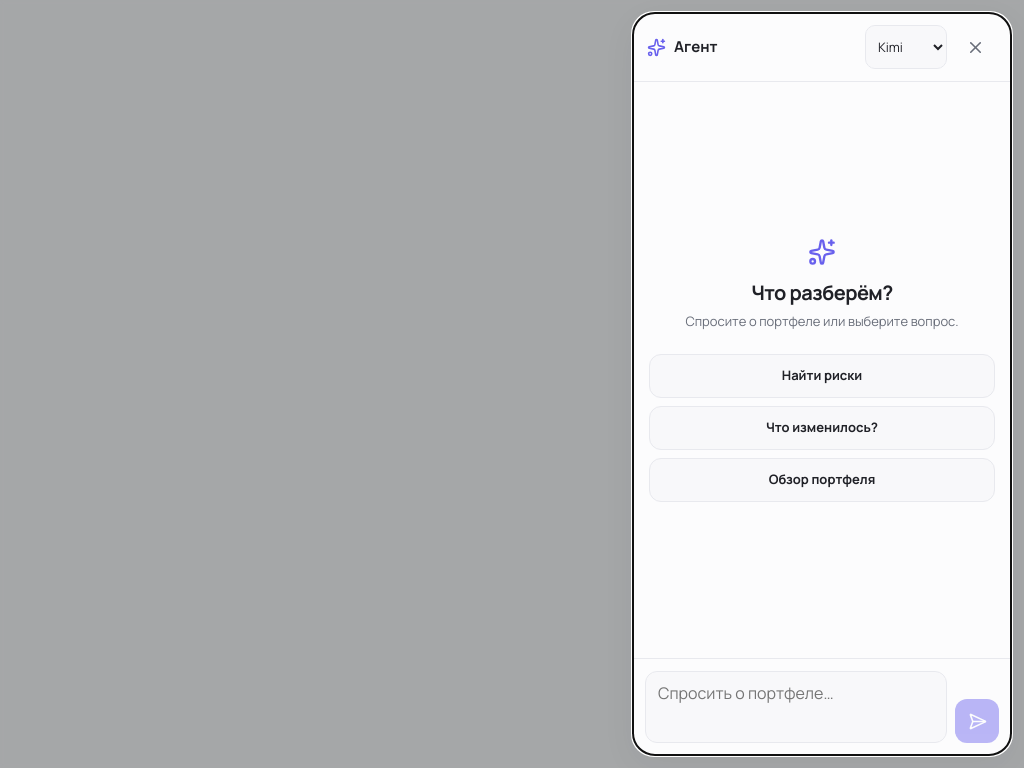
Test: prevents duplicate sends while a response is pending
Type "Только один вопрос" into the text box named "Сообщение агенту" at (796, 707), box top-left (645, 671), bottom-right (947, 743)
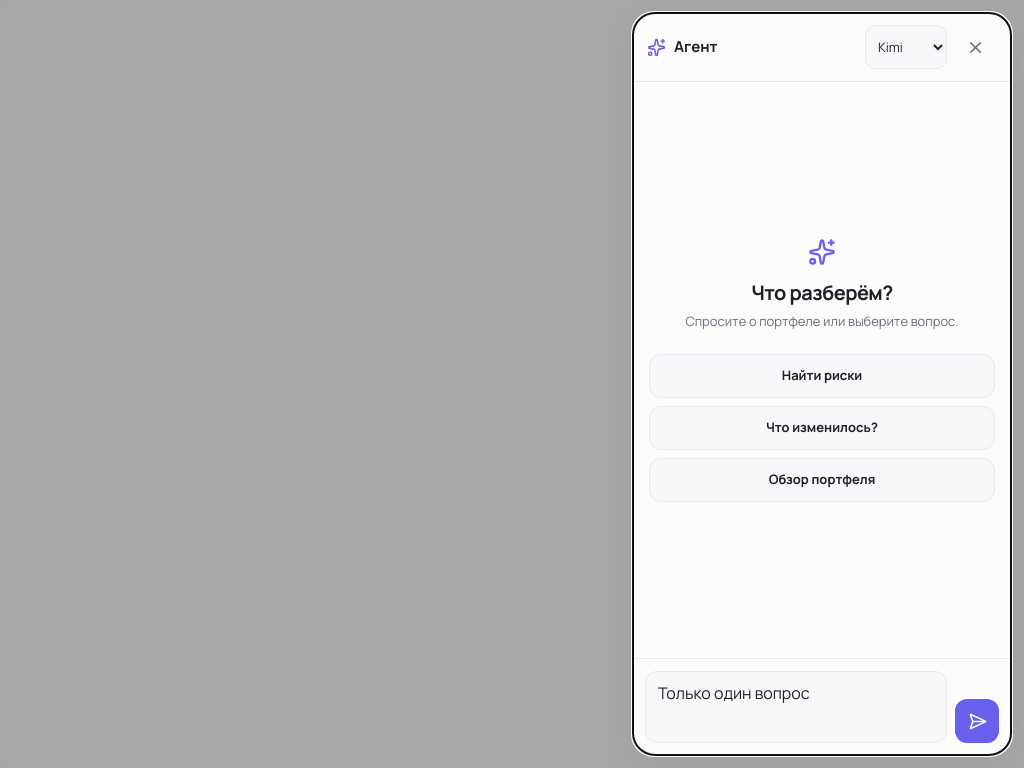
Press Enter in the text box named "Сообщение агенту", box top-left (645, 671), bottom-right (947, 743)
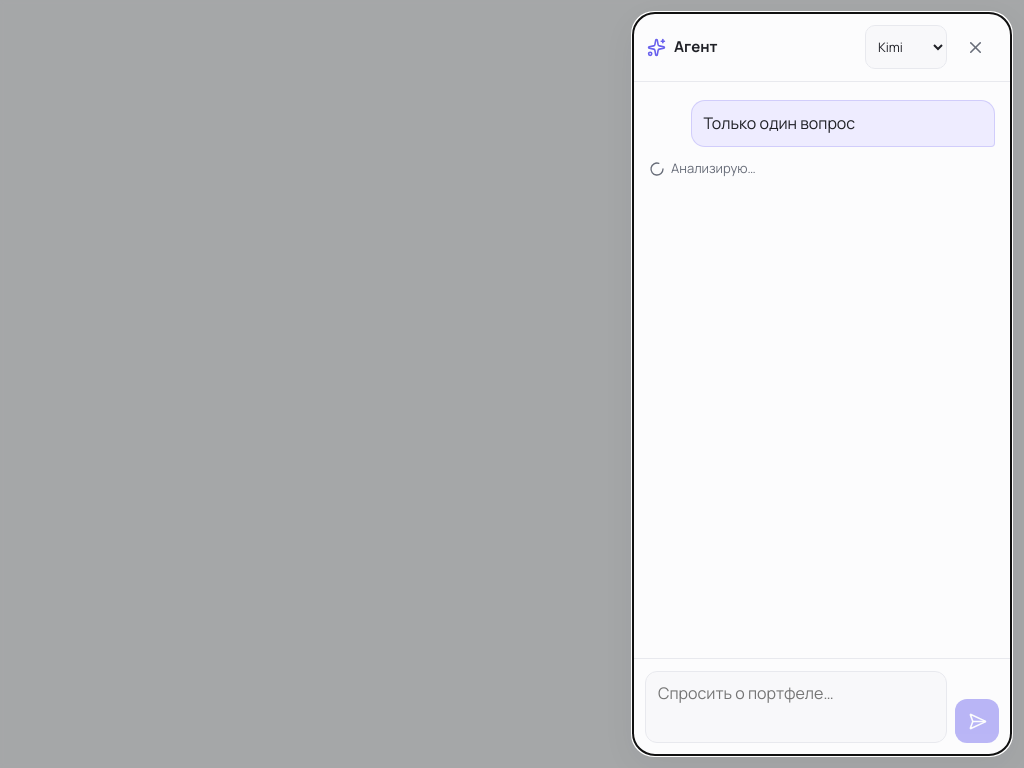
Press Enter in the text box named "Сообщение агенту", box top-left (645, 671), bottom-right (947, 743)
Wait 450 ms
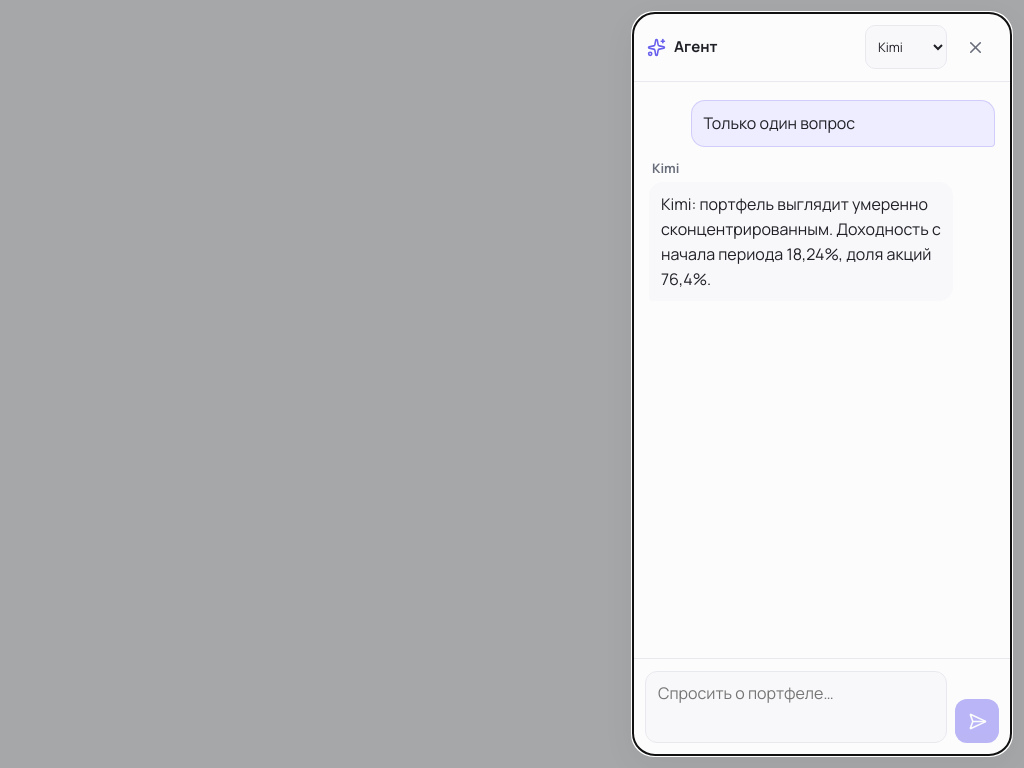
Expected: the text "Только один вопрос" is shown once, top-left (690, 100), bottom-right (995, 147)
Expected: the text "Kimi: портфель выглядит" is shown once, top-left (649, 182), bottom-right (954, 302)
